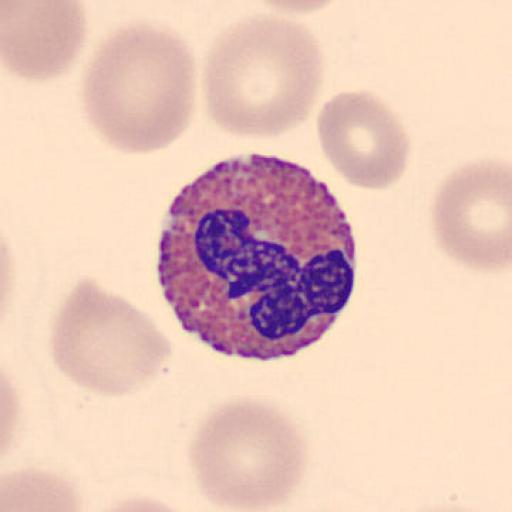RBC: (200, 12, 326, 142), (80, 20, 198, 155), (48, 276, 172, 400), (186, 397, 310, 511), (315, 88, 412, 191), (429, 154, 512, 272), (2, 0, 90, 83), (2, 465, 90, 512), (81, 493, 205, 512), (244, 0, 350, 17)
WBC: (155, 154, 360, 359)
